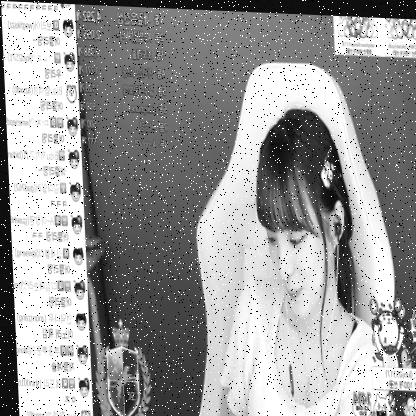donation: (364, 292, 416, 390), (332, 12, 380, 51), (345, 385, 395, 416), (379, 14, 416, 53), (394, 388, 416, 416)
streamer: (205, 102, 387, 416)
